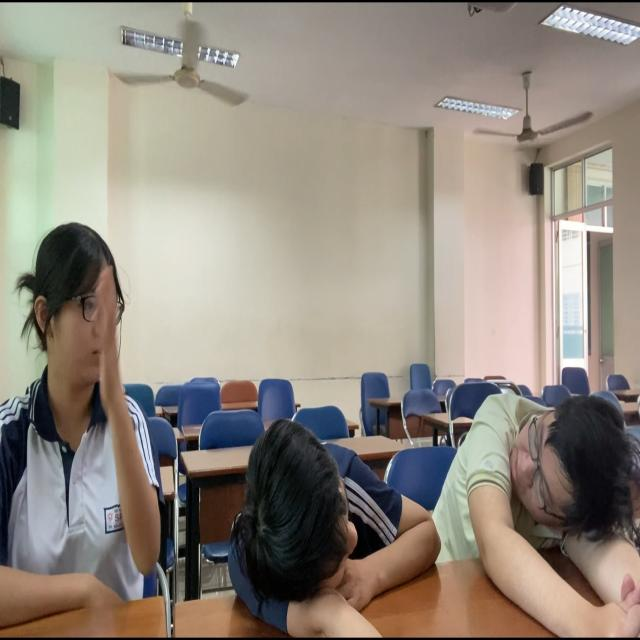raise_hand: (1, 206, 181, 640)
sleep: (425, 360, 640, 609), (234, 403, 432, 640)
